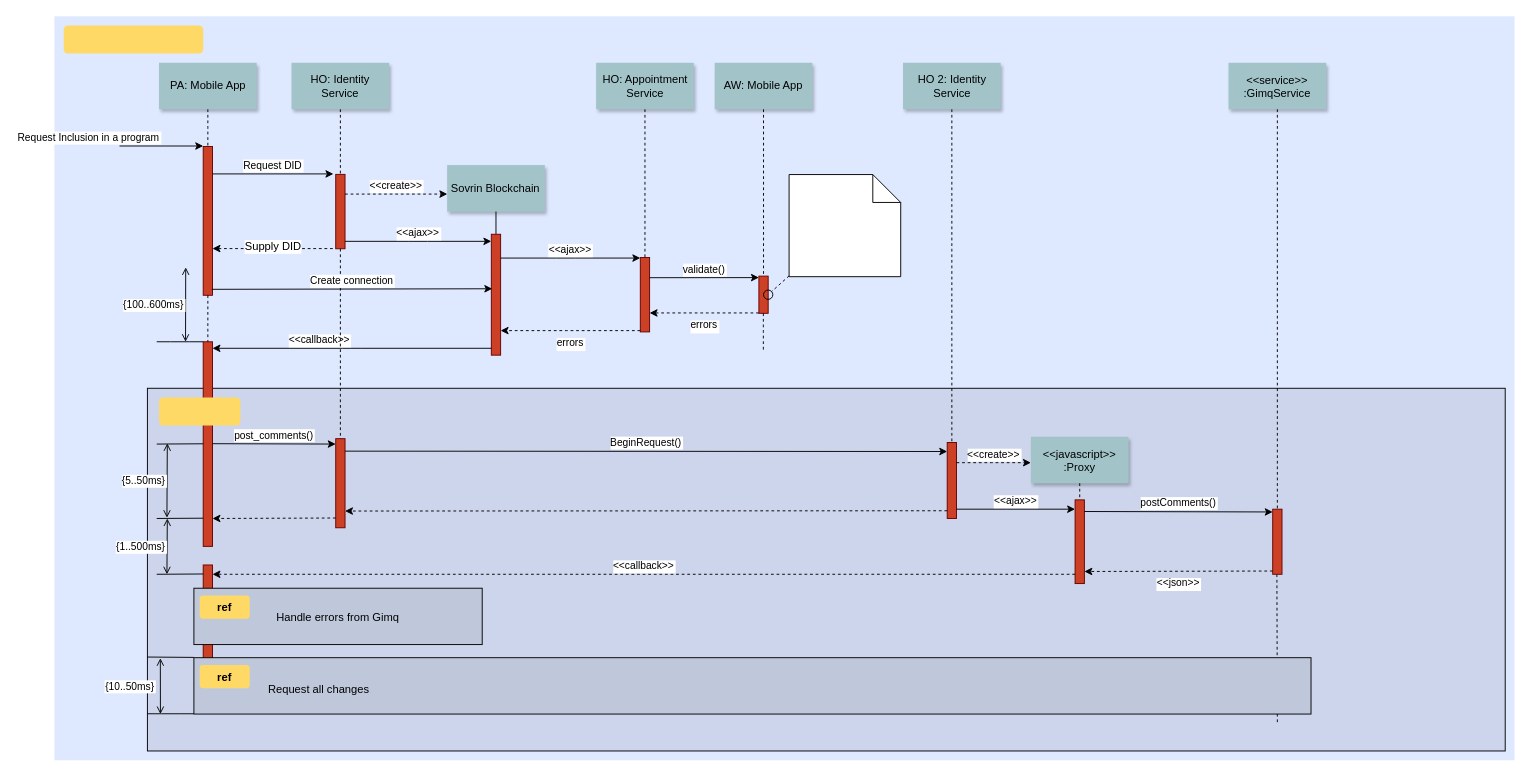
This 1530x776 diagram has some shape labels left out. The centre of each missing label's shape, as x and y in pixels:
"- user validation - password check" goes at point (844, 225).
"opt" goes at point (199, 411).
"rt submit_changes" goes at point (133, 39).
